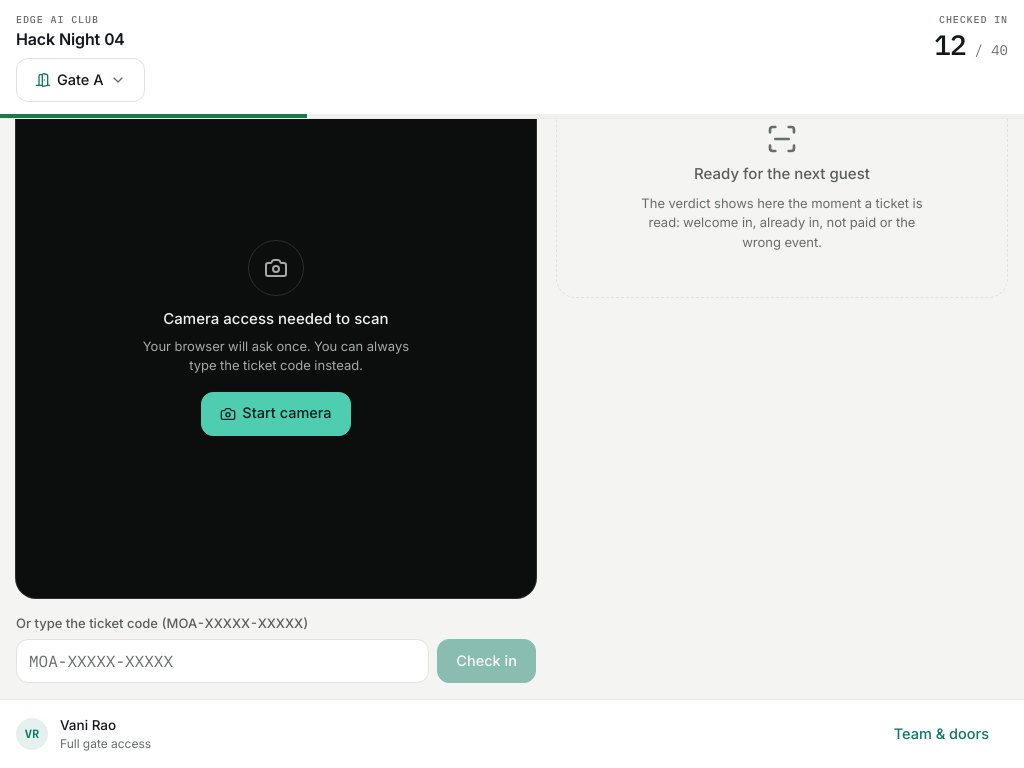
Test: the gate console › checks a typed code in and shows the verdict, without waiting for the camera
(page scrolled)
Expected: the button "Check in" is disabled, [437,639,536,683]
Type "moa-77" into the field labelled "Or type the ticket code (MOA-XXXXX-XXXXX)" at (223, 661), box [16,639,429,683]
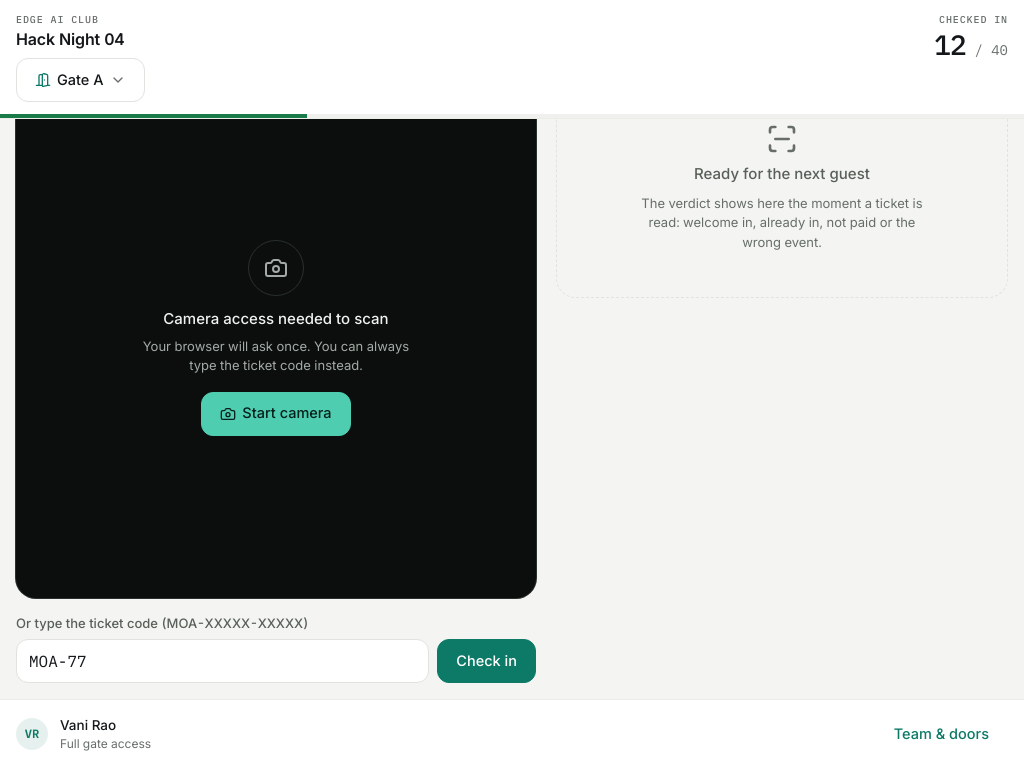
Click the button "Check in" at (487, 661), box [437,639,536,683]
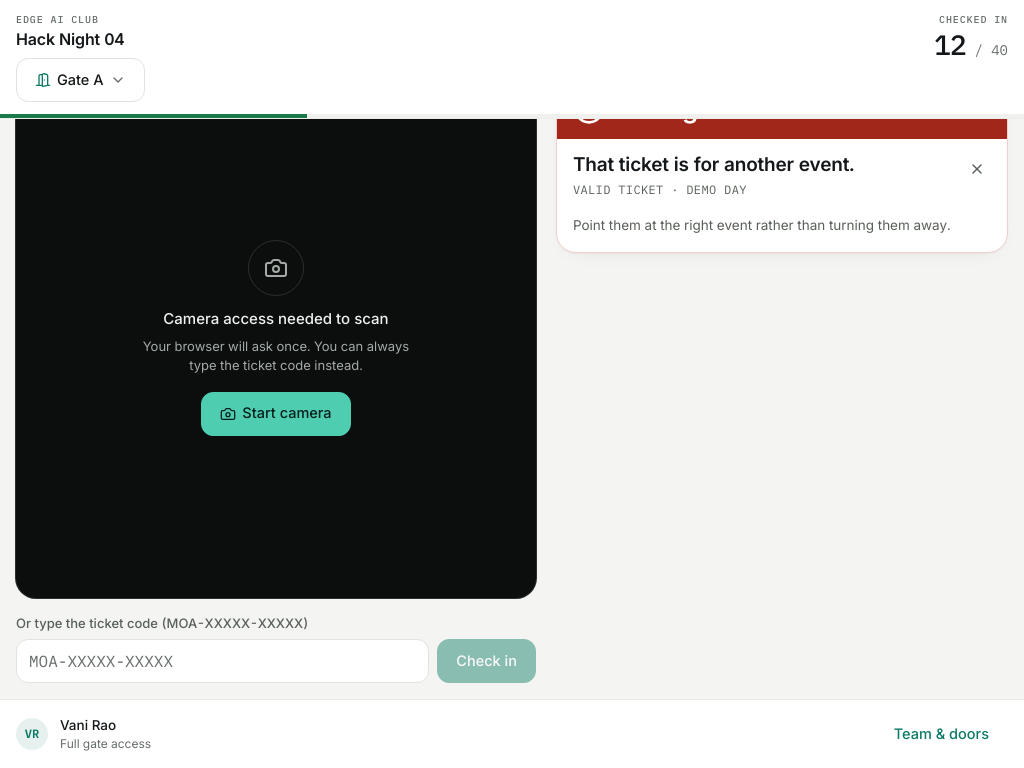
Expected: the text "Wrong event" is shown, [617,92,772,124]
Now the text "That ticket is for another event." is shown, box [573,153,854,176]
